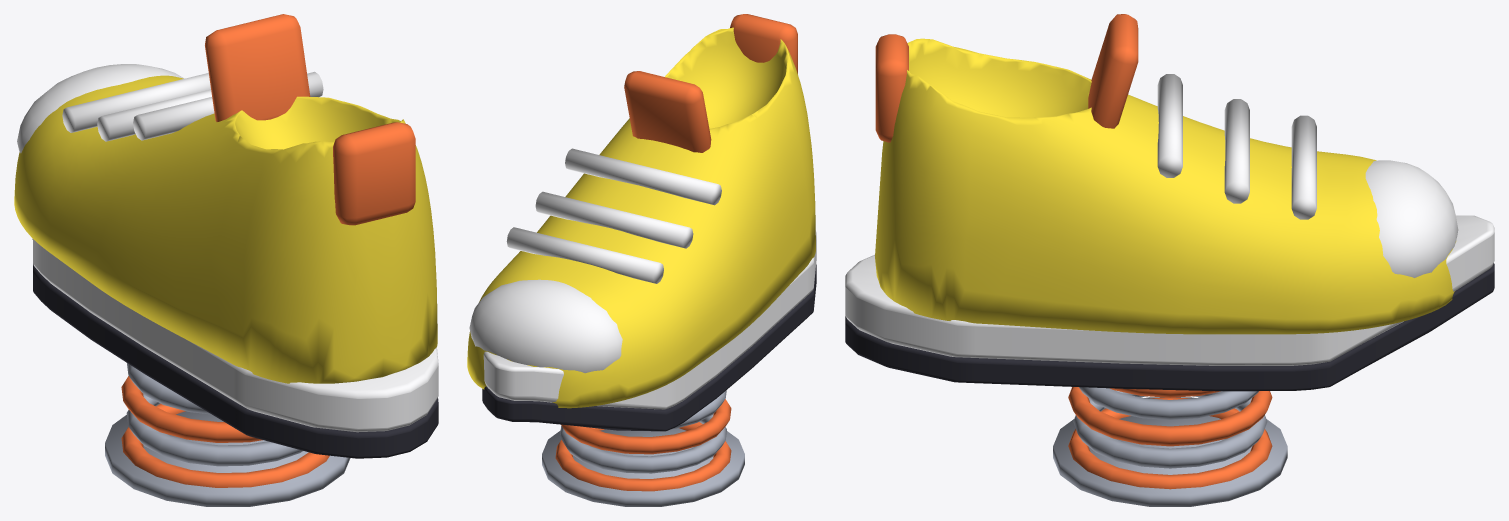
The model's file is shoe_jump.fbx.
The picture shows the model from 3 angles, left to right: view 1: azimuth 30°, elevation 25°; view 2: azimuth 150°, elevation 25°; view 3: azimuth 270°, elevation 25°; orthographic projection. The views are drawn at different scales.
Parts seen in each view (by area): view 1: shoe_jump; view 2: shoe_jump; view 3: shoe_jump.
Boxes of the visible parts, x1=… form: shoe_jump: x1=14, y1=14, x2=438, y2=506; shoe_jump: x1=467, y1=14, x2=816, y2=506; shoe_jump: x1=845, y1=14, x2=1494, y2=506.
Bounding box in the file's own units: 1.56 × 2.82 × 3.88.
1 material, 1 textured.
